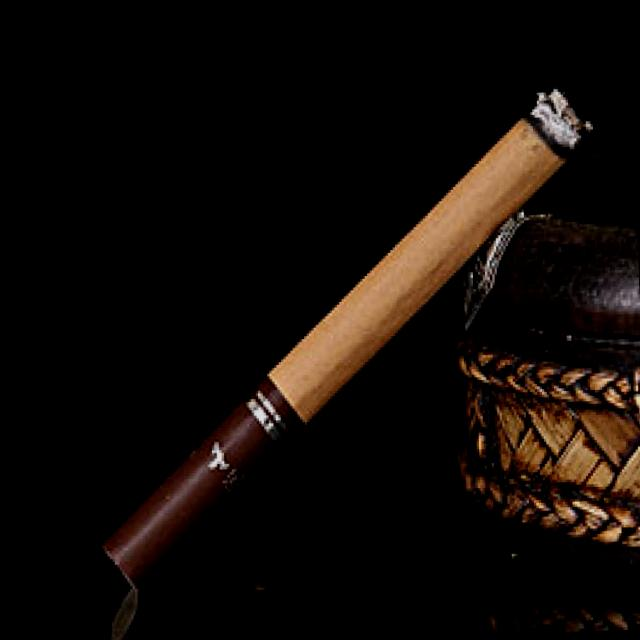smoke: (74, 76, 611, 592)
